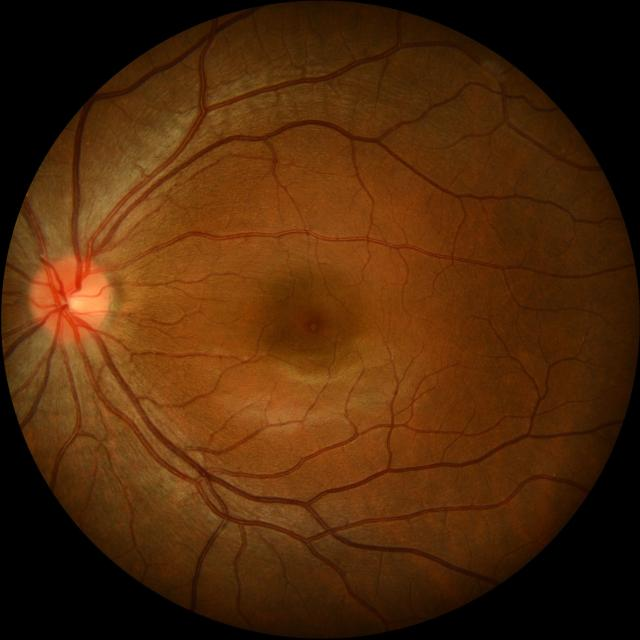OC: (62, 288, 87, 316)
OD: (28, 256, 108, 338)
